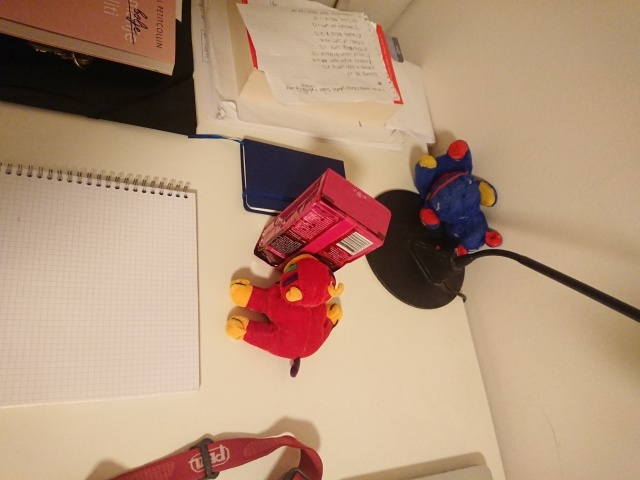Barcaffe Classic Original 225g: (250, 165, 395, 283)
